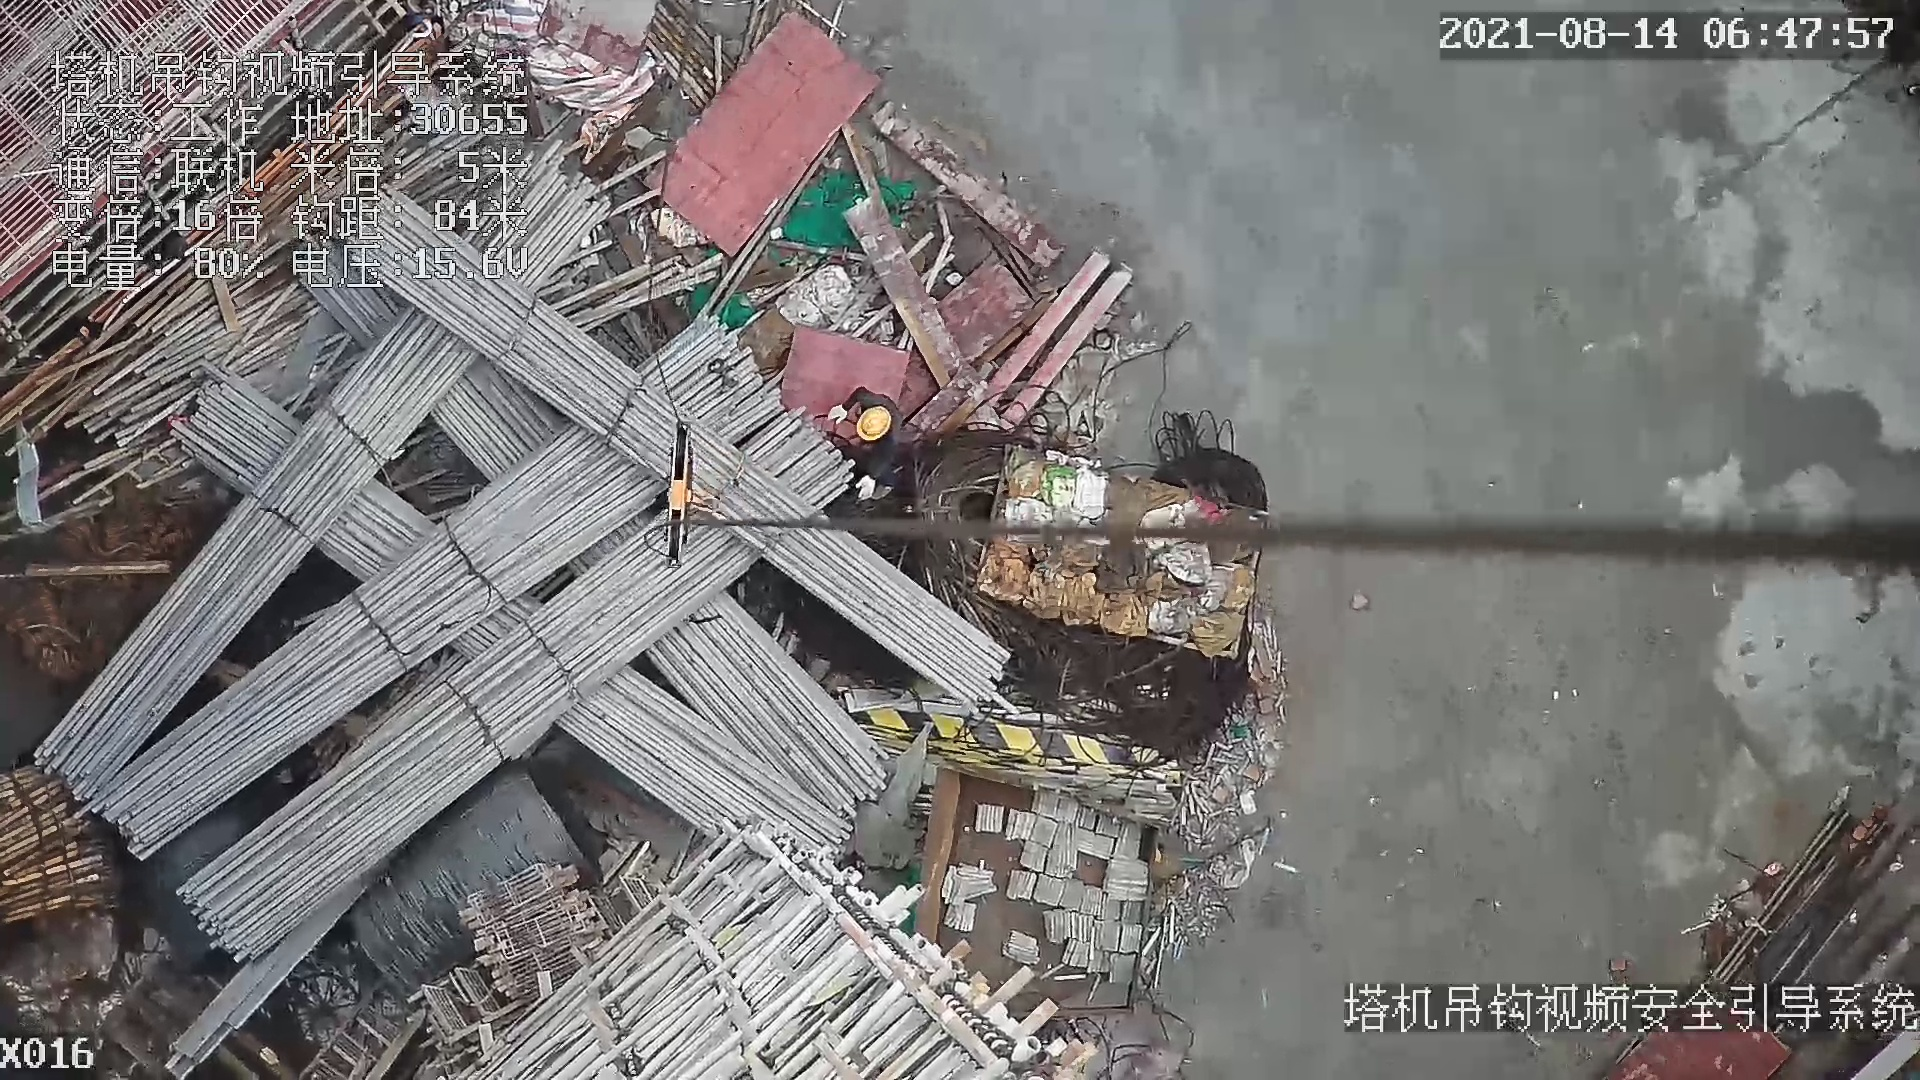board: (634, 6, 891, 264)
helmet: (856, 406, 889, 442)
hook: (649, 421, 700, 583)
person: (831, 385, 904, 503)
scaffold: (1, 769, 134, 911)
